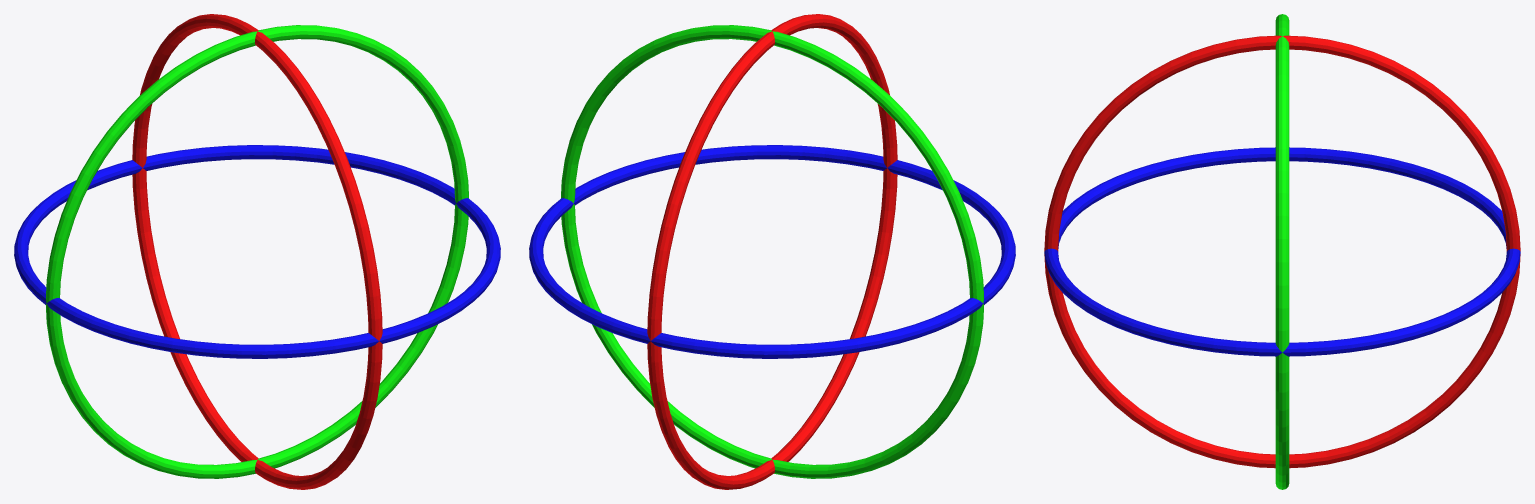
File: rotate_gizmo.obj
3 views of the same model, side by side, from view 1: azimuth 30°, elevation 25°; view 2: azimuth 150°, elevation 25°; view 3: azimuth 270°, elevation 25° (orthographic). The views are drawn at different scales.
Parts seen in each view (by area): view 1: Gizmo_Axis_Y_Torus.002, Gizmo_Axis_X_Torus.001, Gizmo_Axis_Z_Torus.003; view 2: Gizmo_Axis_Y_Torus.002, Gizmo_Axis_X_Torus.001, Gizmo_Axis_Z_Torus.003; view 3: Gizmo_Axis_X_Torus.001, Gizmo_Axis_Z_Torus.003, Gizmo_Axis_Y_Torus.002.
Part boxes in pixels (box(x1,y1,x2,y2)): Gizmo_Axis_Y_Torus.002: box(46, 25, 468, 478); Gizmo_Axis_X_Torus.001: box(132, 14, 382, 489); Gizmo_Axis_Z_Torus.003: box(14, 145, 500, 358); Gizmo_Axis_Y_Torus.002: box(561, 25, 983, 478); Gizmo_Axis_X_Torus.001: box(647, 14, 897, 489); Gizmo_Axis_Z_Torus.003: box(529, 145, 1015, 358); Gizmo_Axis_X_Torus.001: box(1044, 35, 1520, 468); Gizmo_Axis_Z_Torus.003: box(1044, 147, 1520, 356); Gizmo_Axis_Y_Torus.002: box(1275, 14, 1289, 489).
Bounding box in the file's own units: 2.06 × 2.06 × 2.06.
